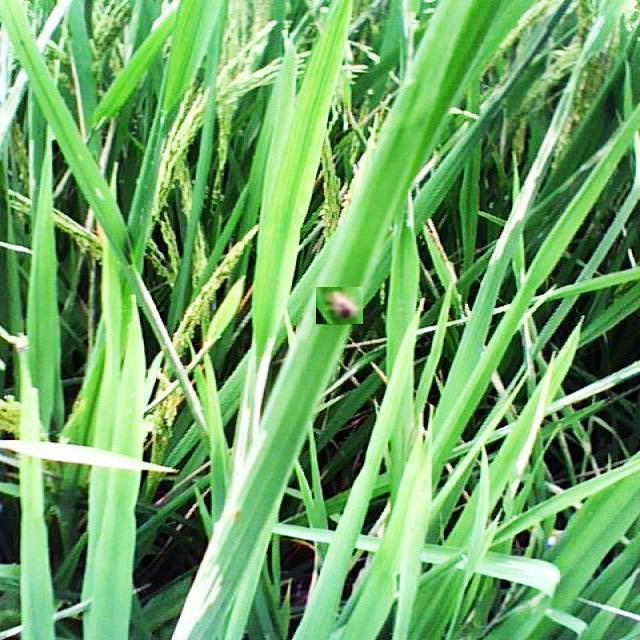rice-bug: (316, 288, 363, 326)
